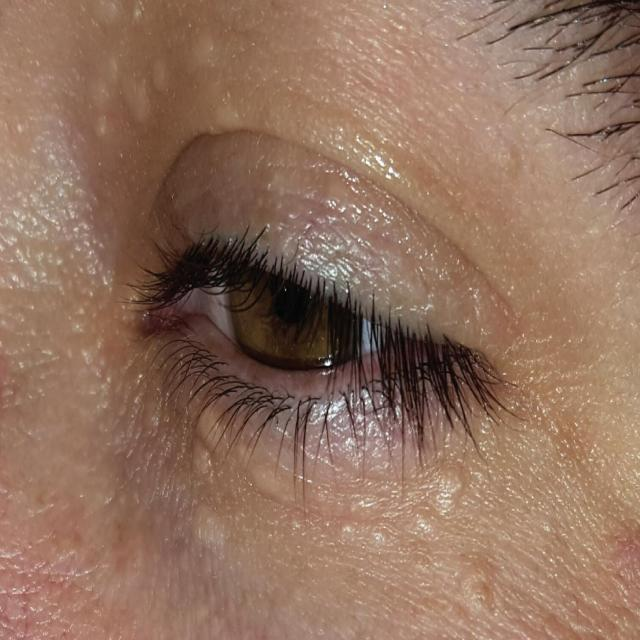7: (119, 0, 163, 41)
blackheads: (292, 440, 500, 577), (162, 416, 282, 492), (170, 507, 271, 577), (118, 42, 174, 132), (78, 34, 122, 142), (176, 23, 220, 83)
